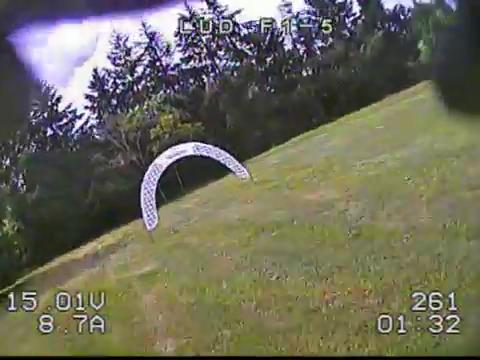gate: (137, 142, 253, 228)
